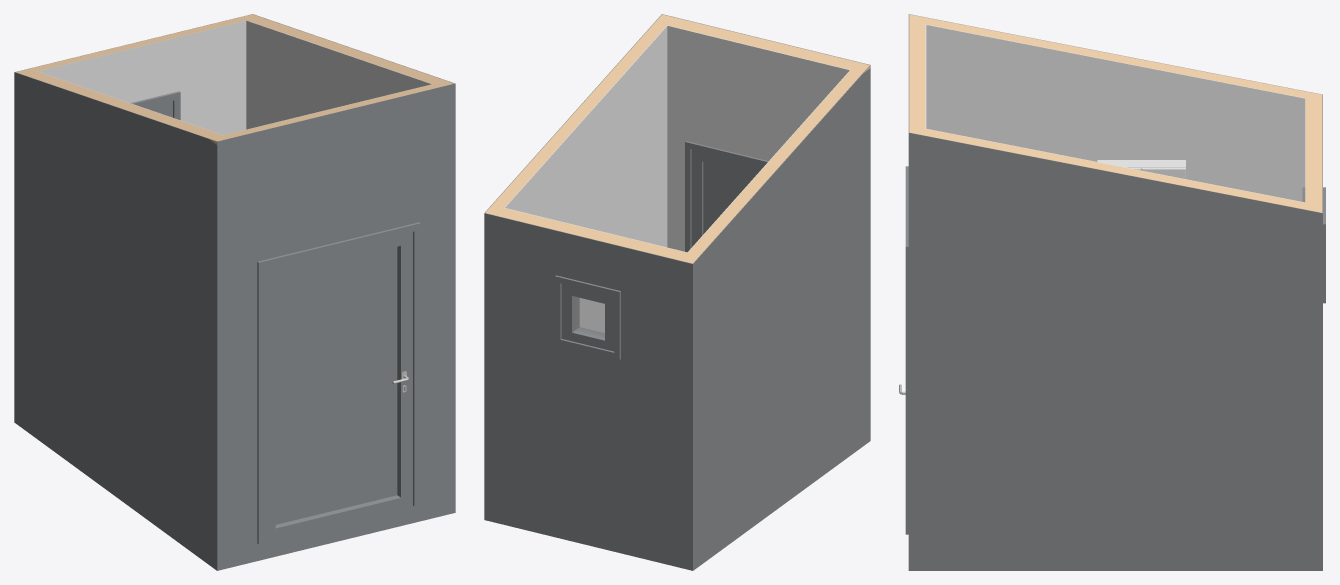
Rendered from Mazesnis_San. mazgas_(1,9x2,8).fbx.
3 views of the same model, side by side, from view 1: azimuth 30°, elevation 25°; view 2: azimuth 150°, elevation 25°; view 3: azimuth 270°, elevation 25° (orthographic). The views are drawn at different scales.
Parts seen in each view (by area): view 1: IfcWall/Part:2368366, IfcWall/Part:2319977, IfcDoor/Durys išorinės:1200x2100x120 (kairinės nepermatomos), IfcWall/Part:2319982, IfcWall/Part:2319979, IfcWall/Part:2319981, IfcWall/Part:2368367, IfcWall/Part:2319978, IfcWall/Part:2319984, IfcWindow/Langai (Akrusta):500x500x120:2430598; view 2: IfcWall/Part:2368366, IfcWall/Part:2319983, IfcWall/Part:2319979, IfcWall/Part:2319976, IfcDoor/Durys išorinės:1200x2100x120 (kairinės nepermatomos), IfcWindow/Langai (Akrusta):500x500x120:2430598, IfcWall/Part:2319981, IfcWall/Part:2368367, IfcWall/Part:2319978, IfcWall/Part:2319984, IfcWall/Part:2319977; view 3: IfcWall/Part:2319980, IfcWall/Part:2368365, IfcWall/Part:2368367, IfcWall/Part:2319981, IfcWall/Part:2319984, IfcWall/Part:2319978, IfcDoor/Durys išorinės:1200x2100x120 (kairinės nepermatomos), IfcWall/Part:2319977, IfcFurnishingElement/Sanitary_Mirrors_Roca_LUNA-600-Mirror-c.
Part boxes in pixels (<box>): IfcWall/Part:2368366: <box>14,72,216,570</box>; IfcWall/Part:2319977: <box>217,83,455,570</box>; IfcDoor/Durys išorinės:1200x2100x120 (kairinės nepermatomos): <box>257,222,420,544</box>; IfcWall/Part:2319982: <box>37,20,246,134</box>; IfcWall/Part:2319979: <box>246,20,431,129</box>; IfcWall/Part:2319981: <box>247,17,446,84</box>; IfcWall/Part:2368367: <box>24,71,222,138</box>; IfcWall/Part:2319978: <box>209,81,453,144</box>; IfcWall/Part:2319984: <box>15,14,259,74</box>; IfcWindow/Langai (Akrusta):500x500x120:2430598: <box>130,91,180,120</box>; IfcWall/Part:2368366: <box>693,65,870,570</box>; IfcWall/Part:2319983: <box>484,213,693,570</box>; IfcWall/Part:2319979: <box>505,26,667,332</box>; IfcWall/Part:2319976: <box>667,25,850,251</box>; IfcDoor/Durys išorinės:1200x2100x120 (kairinės nepermatomos): <box>685,141,768,252</box>; IfcWindow/Langai (Akrusta):500x500x120:2430598: <box>555,275,620,359</box>; IfcWall/Part:2319981: <box>492,22,666,207</box>; IfcWall/Part:2368367: <box>688,70,862,255</box>; IfcWall/Part:2319978: <box>655,14,870,72</box>; IfcWall/Part:2319984: <box>485,205,699,263</box>; IfcWall/Part:2319977: <box>662,14,870,440</box>; IfcWall/Part:2319980: <box>909,132,1322,570</box>; IfcWall/Part:2368365: <box>926,24,1305,201</box>; IfcWall/Part:2368367: <box>925,17,1305,98</box>; IfcWall/Part:2319981: <box>925,129,1305,209</box>; IfcWall/Part:2319984: <box>1305,91,1322,212</box>; IfcWall/Part:2319978: <box>909,14,925,135</box>; IfcDoor/Durys išorinės:1200x2100x120 (kairinės nepermatomos): <box>905,166,908,534</box>; IfcWall/Part:2319977: <box>908,14,909,570</box>; IfcFurnishingElement/Sanitary_Mirrors_Roca_LUNA-600-Mirror-c: <box>1097,160,1185,178</box>.
Size of the model in its own units: 190 by 328 by 289.
